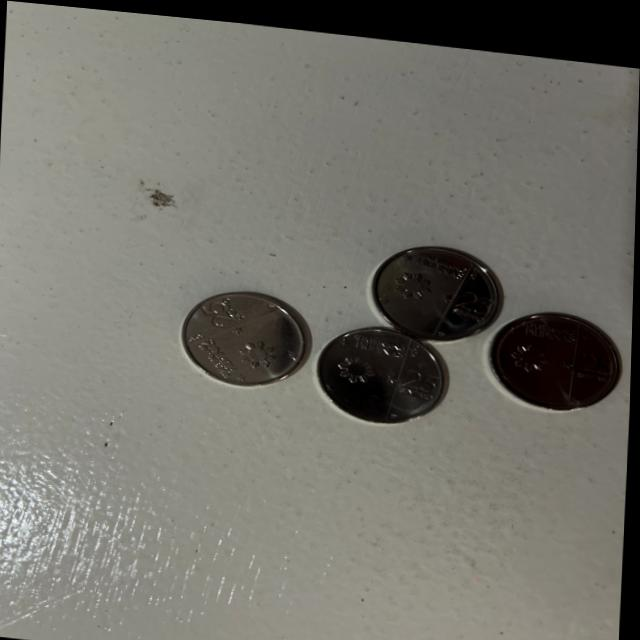25Cent_New_Front: (571, 331, 621, 376), (396, 355, 442, 396), (203, 291, 256, 325), (445, 277, 495, 312)
